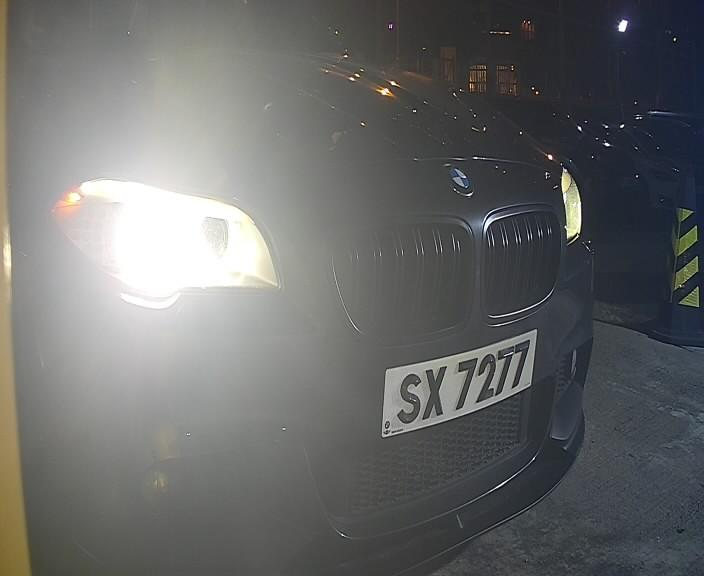License Plate: (371, 330, 538, 427)
